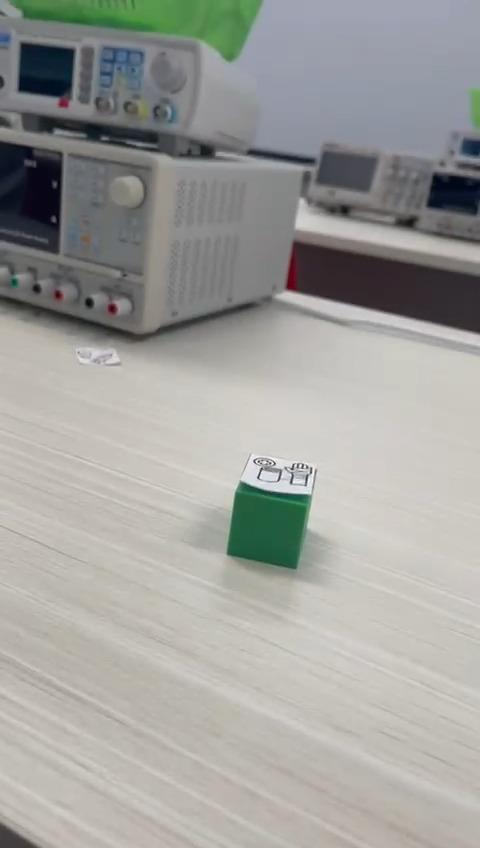Bandages: (227, 451, 317, 570)
